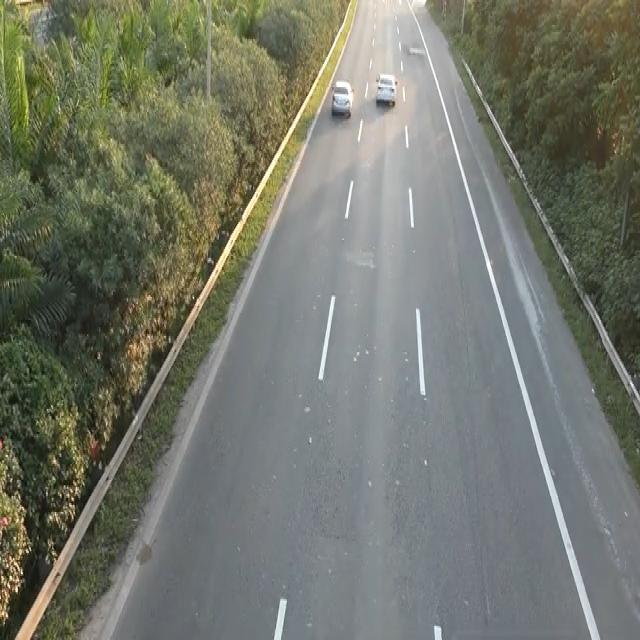bus: (330, 76, 354, 118), (374, 69, 398, 107)
